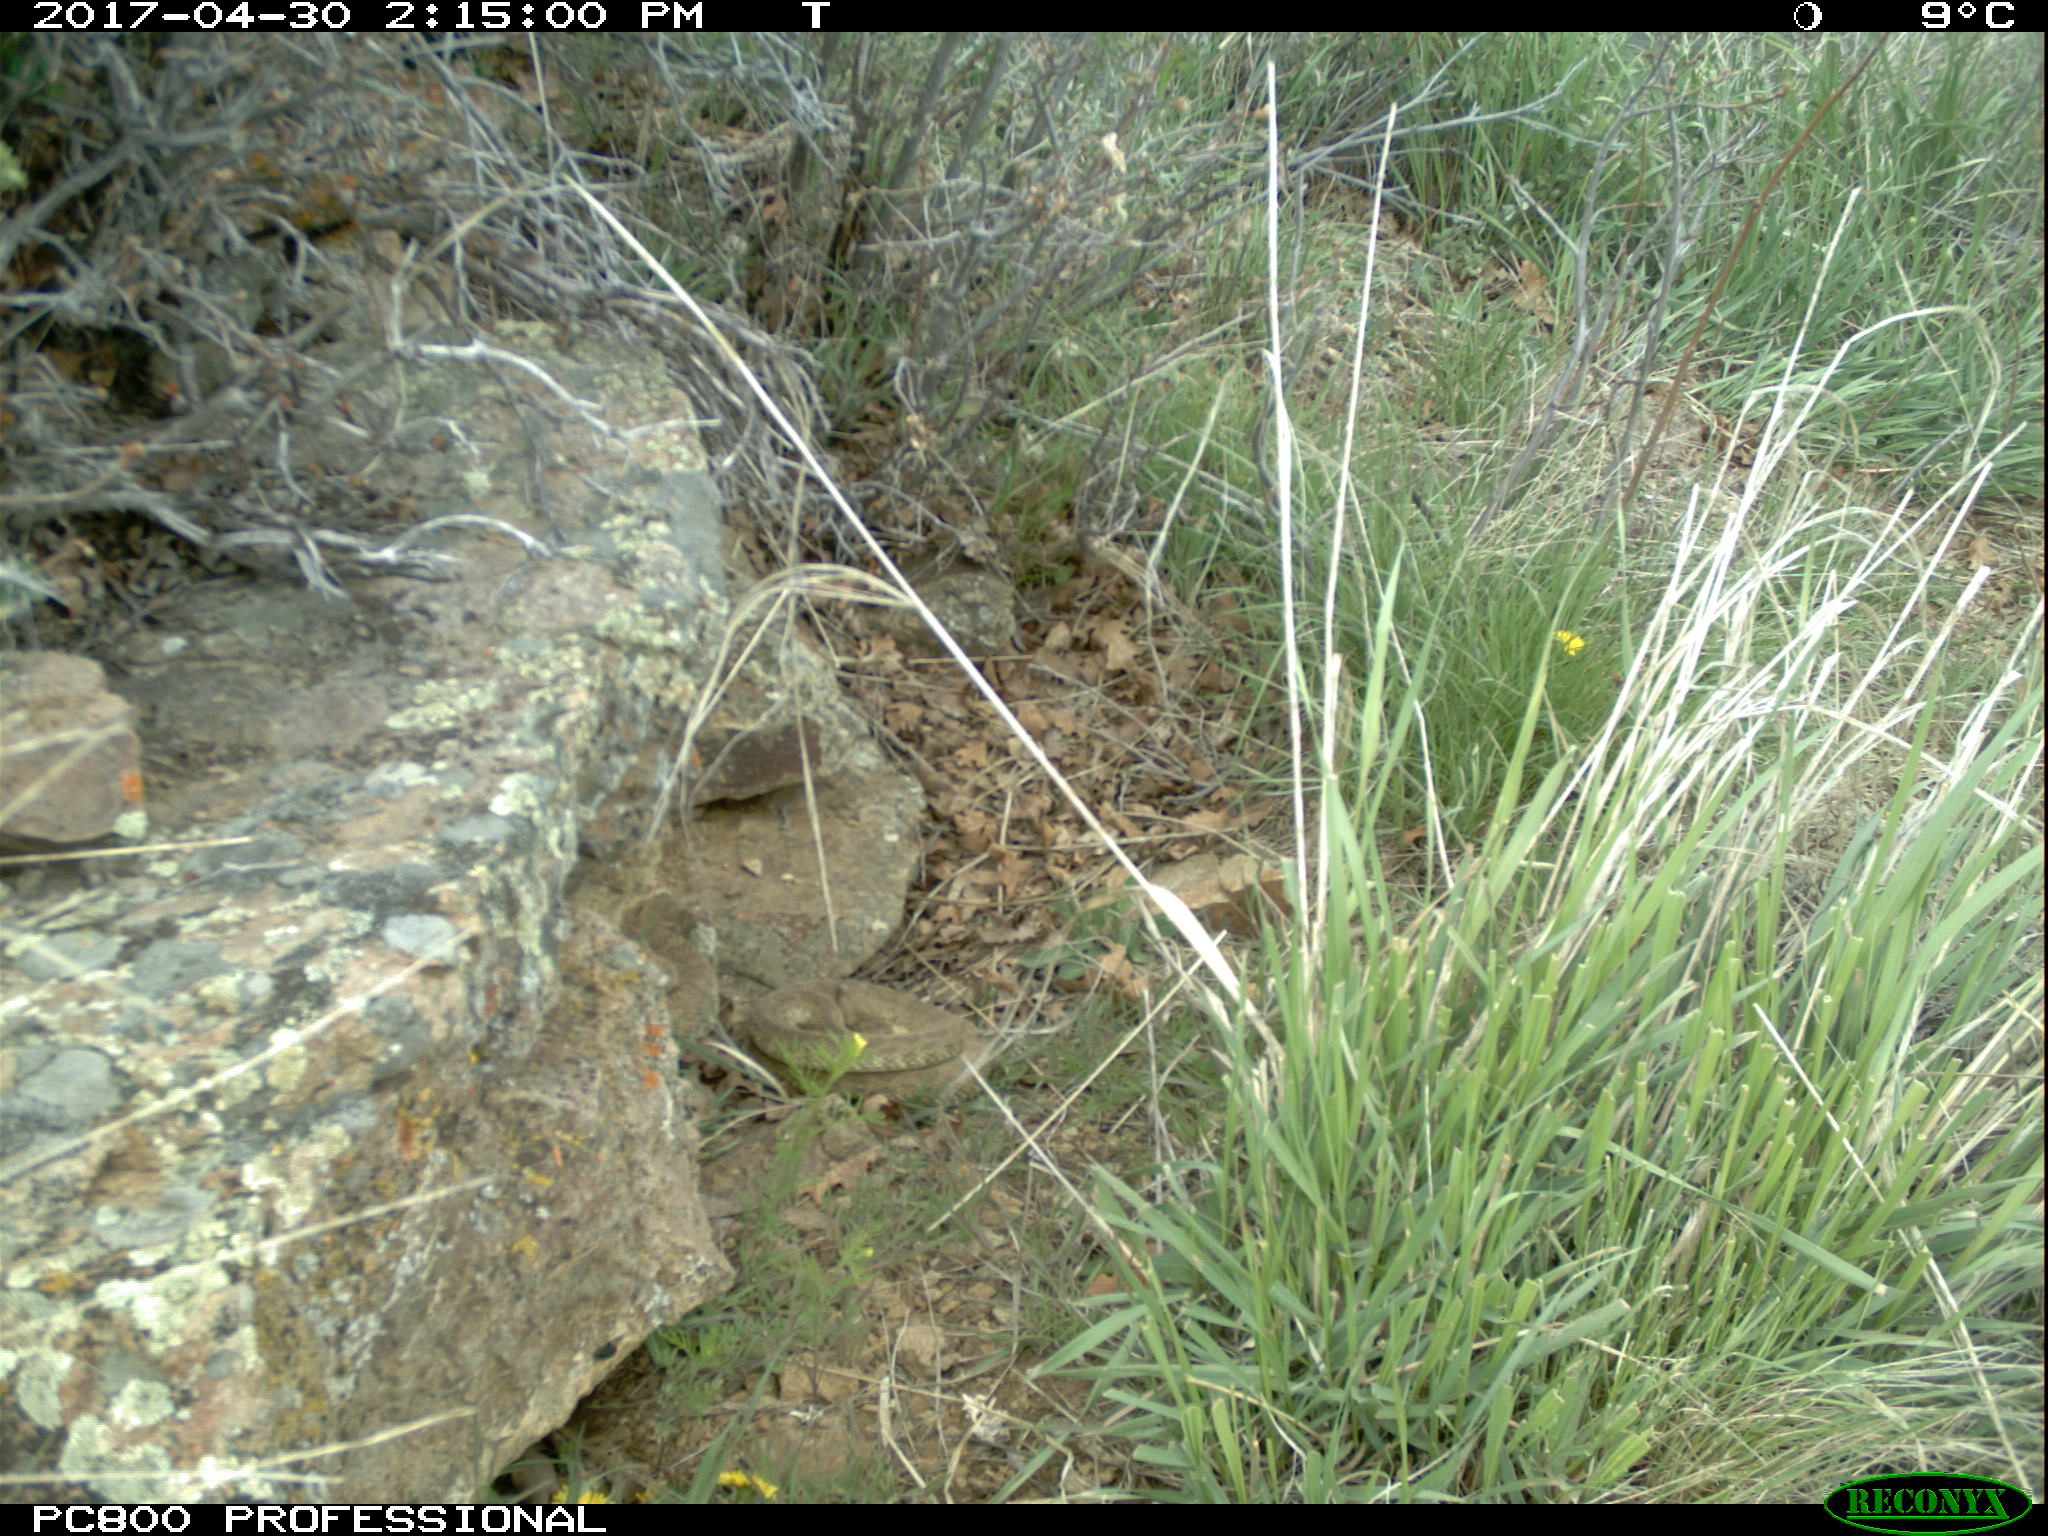snake: (747, 983, 992, 1112)
